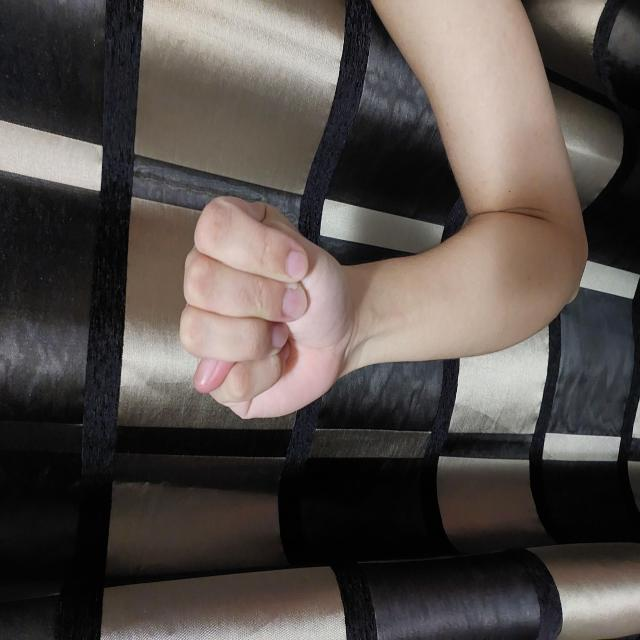M: (219, 178, 449, 355)
